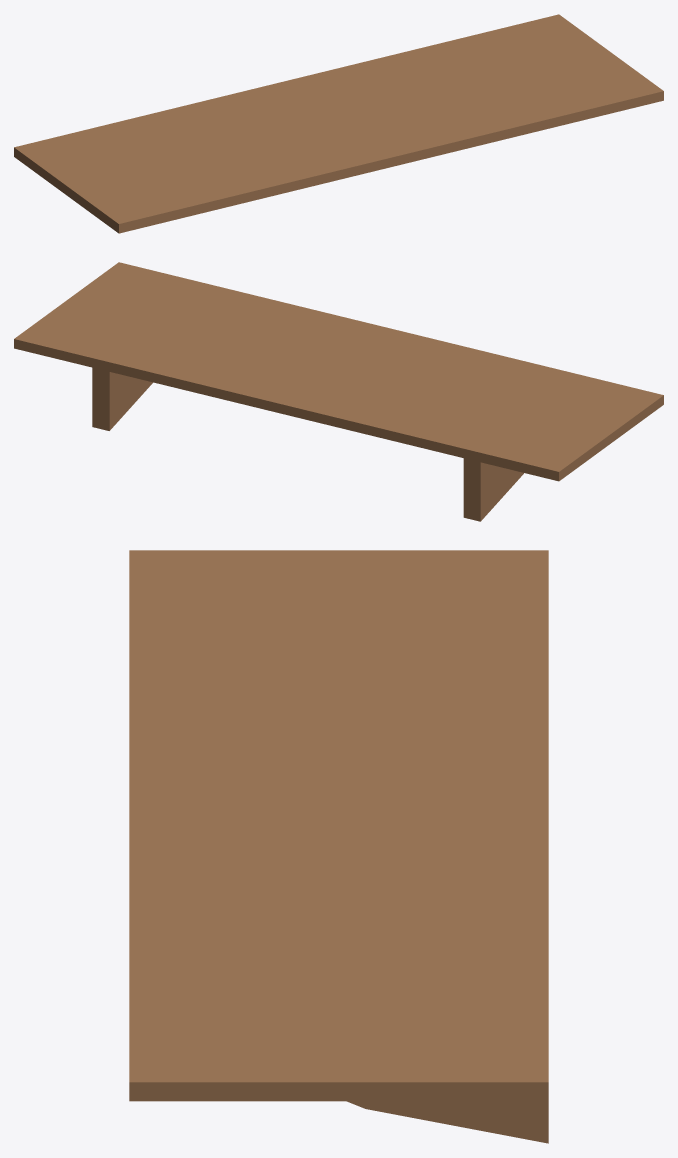
The model's file is Int_HangingShelf01.fbx.
The picture shows the model from 3 angles, top to bottom: view 1: azimuth 30°, elevation 25°; view 2: azimuth 150°, elevation 25°; view 3: azimuth 270°, elevation 25°; orthographic projection. The views are drawn at different scales.
Parts seen in each view (by area): view 1: Int_HangingShelf01; view 2: Int_HangingShelf01; view 3: Int_HangingShelf01.
Boxes of the visible parts, x1,y1,x2,y2 form: Int_HangingShelf01: [14, 14, 663, 233]; Int_HangingShelf01: [14, 262, 663, 521]; Int_HangingShelf01: [129, 550, 548, 1143].
Size of what is drawn, in the model's own units: 150 by 50 by 18.13.
